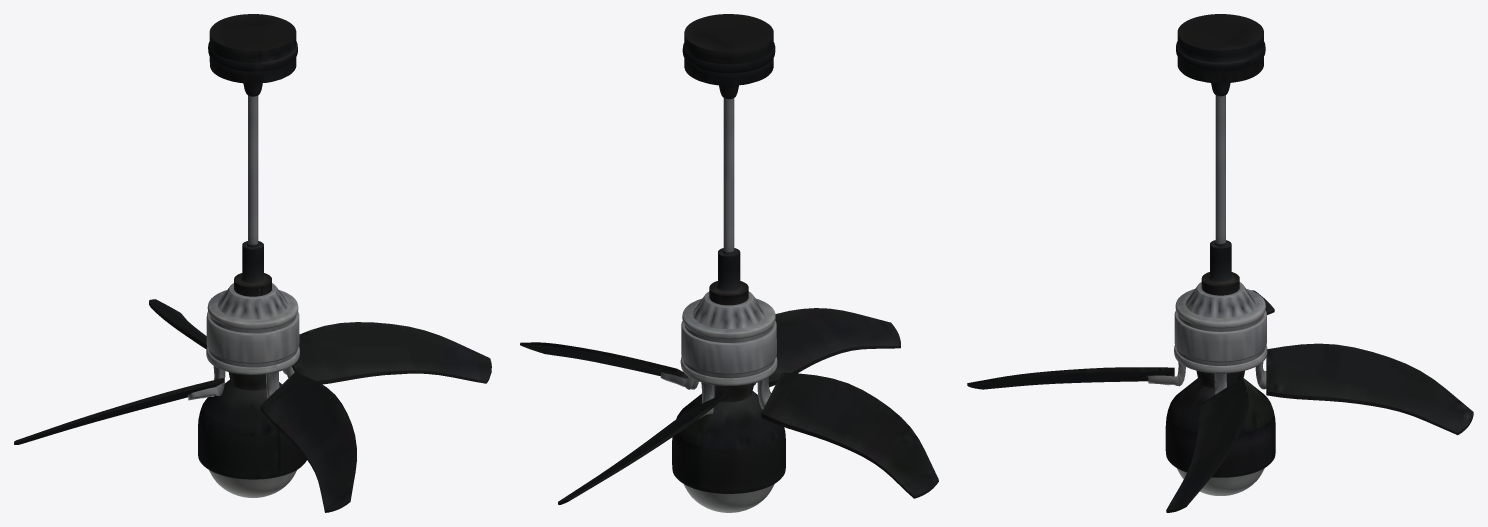
File: ph-ceiling-fan.glb
The picture shows the model from 3 angles, left to right: view 1: azimuth 30°, elevation 25°; view 2: azimuth 150°, elevation 25°; view 3: azimuth 270°, elevation 25°; orthographic projection. The views are drawn at different scales.
Parts seen in each view (by area): view 1: ceiling_fan; view 2: ceiling_fan; view 3: ceiling_fan.
Boxes of the visible parts, <box> form: ceiling_fan: <box>14,14,491,512</box>; ceiling_fan: <box>520,14,938,512</box>; ceiling_fan: <box>967,14,1473,512</box>.
Size of the model in its own units: 1 by 1 by 1.
1 material, 1 textured.
